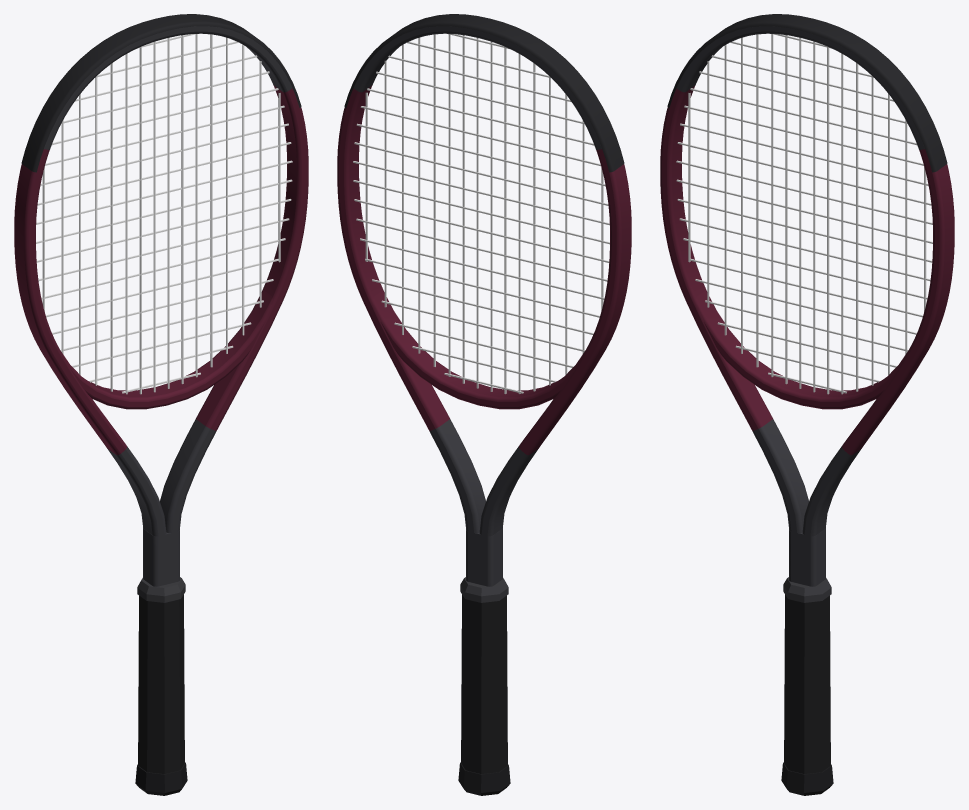
File: head-prestige-mp-l.glb
3 views of the same model, side by side, from view 1: azimuth 30°, elevation 25°; view 2: azimuth 150°, elevation 25°; view 3: azimuth 330°, elevation 25° (orthographic).
Visible parts, largest first — view 1: frame, strings_mains, strings_crosses, grip, bumper, butt_cap, collar; view 2: frame, strings_mains, strings_crosses, grip, bumper, butt_cap, collar; view 3: frame, strings_mains, strings_crosses, grip, bumper, butt_cap, collar.
Part boxes in pixels (x1=…): frame: x1=14, y1=26, x2=308, y2=586; strings_mains: x1=42, y1=34, x2=280, y2=394; strings_crosses: x1=36, y1=34, x2=292, y2=393; grip: x1=138, y1=594, x2=184, y2=773; bumper: x1=21, y1=14, x2=301, y2=172; butt_cap: x1=135, y1=762, x2=187, y2=795; collar: x1=137, y1=577, x2=185, y2=602; frame: x1=337, y1=26, x2=631, y2=586; strings_mains: x1=365, y1=34, x2=603, y2=393; strings_crosses: x1=353, y1=34, x2=609, y2=393; grip: x1=461, y1=594, x2=507, y2=773; bumper: x1=344, y1=14, x2=624, y2=172; butt_cap: x1=458, y1=762, x2=510, y2=795; collar: x1=460, y1=577, x2=508, y2=602; frame: x1=660, y1=26, x2=954, y2=586; strings_mains: x1=688, y1=34, x2=926, y2=394; strings_crosses: x1=676, y1=34, x2=932, y2=393; grip: x1=784, y1=594, x2=830, y2=773; bumper: x1=667, y1=14, x2=947, y2=172; butt_cap: x1=781, y1=762, x2=833, y2=795; collar: x1=783, y1=577, x2=831, y2=602.
Bounding box in the file's own units: 0.2674 × 0.6861 × 0.0396.
